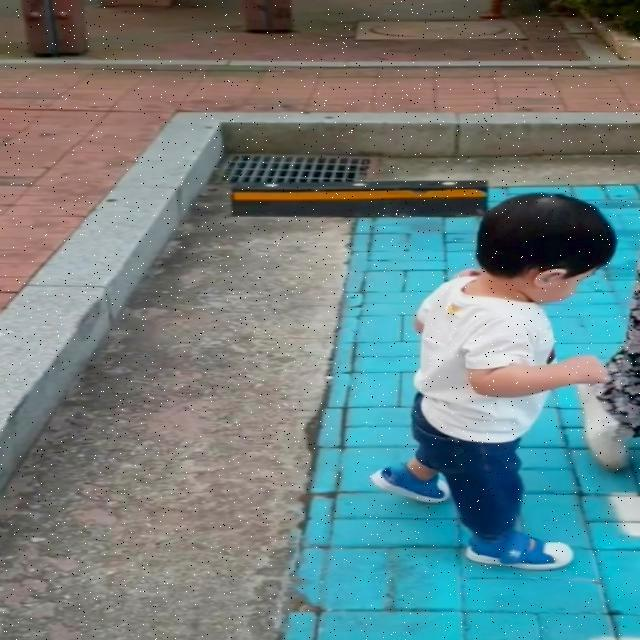child: (368, 194, 618, 567)
